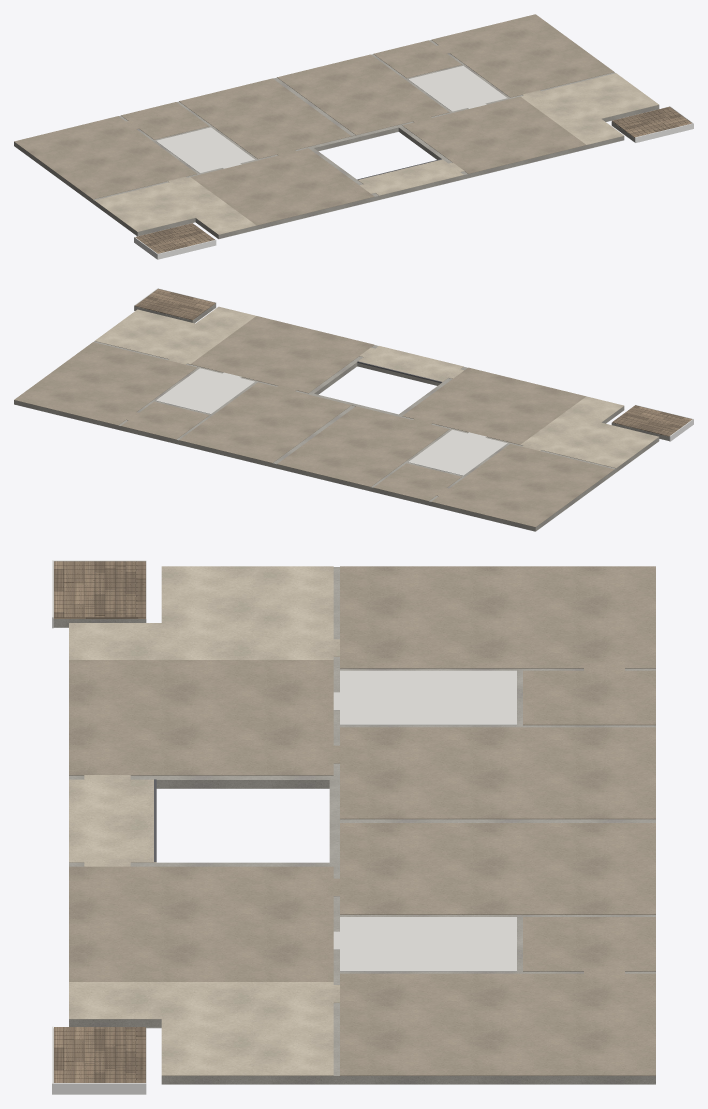
Rendered from slab_t.glb.
3 views of the same model, one above another, from view 1: azimuth 30°, elevation 25°; view 2: azimuth 150°, elevation 25°; view 3: azimuth 270°, elevation 25° (orthographic). The views are drawn at different scales.
Visible parts, largest first — view 1: slab_t_carpet, slab_t_vinyl_f, slab_t_conc_s, slab_t_tile_f, slab_t_deck, slab_t_trim, slab_t_ceil; view 2: slab_t_carpet, slab_t_vinyl_f, slab_t_conc_s, slab_t_tile_f, slab_t_deck, slab_t_ceil; view 3: slab_t_carpet, slab_t_vinyl_f, slab_t_tile_f, slab_t_conc_s, slab_t_deck, slab_t_trim.
Part boxes in pixels (left/top/right/bottom): slab_t_carpet: left=14, top=14, right=614, bottom=225; slab_t_vinyl_f: left=94, top=73, right=658, bottom=234; slab_t_conc_s: left=14, top=40, right=659, bottom=238; slab_t_tile_f: left=156, top=65, right=507, bottom=173; slab_t_deck: left=135, top=106, right=691, bottom=253; slab_t_trim: left=134, top=106, right=693, bottom=259; slab_t_ceil: left=14, top=110, right=654, bottom=239; slab_t_carpet: left=14, top=316, right=614, bottom=527; slab_t_vinyl_f: left=95, top=306, right=658, bottom=468; slab_t_conc_s: left=14, top=303, right=669, bottom=531; slab_t_tile_f: left=156, top=368, right=507, bottom=475; slab_t_deck: left=135, top=289, right=692, bottom=436; slab_t_ceil: left=14, top=308, right=669, bottom=531; slab_t_carpet: left=69, top=566, right=655, bottom=1075; slab_t_vinyl_f: left=69, top=566, right=339, bottom=1075; slab_t_tile_f: left=333, top=670, right=516, bottom=971; slab_t_conc_s: left=53, top=563, right=655, bottom=1084; slab_t_deck: left=54, top=561, right=145, bottom=1082; slab_t_trim: left=52, top=560, right=146, bottom=1094.
Bounding box in the file's own units: 24.06 × 0.293 × 11.73.
11 materials, 5 textured.
